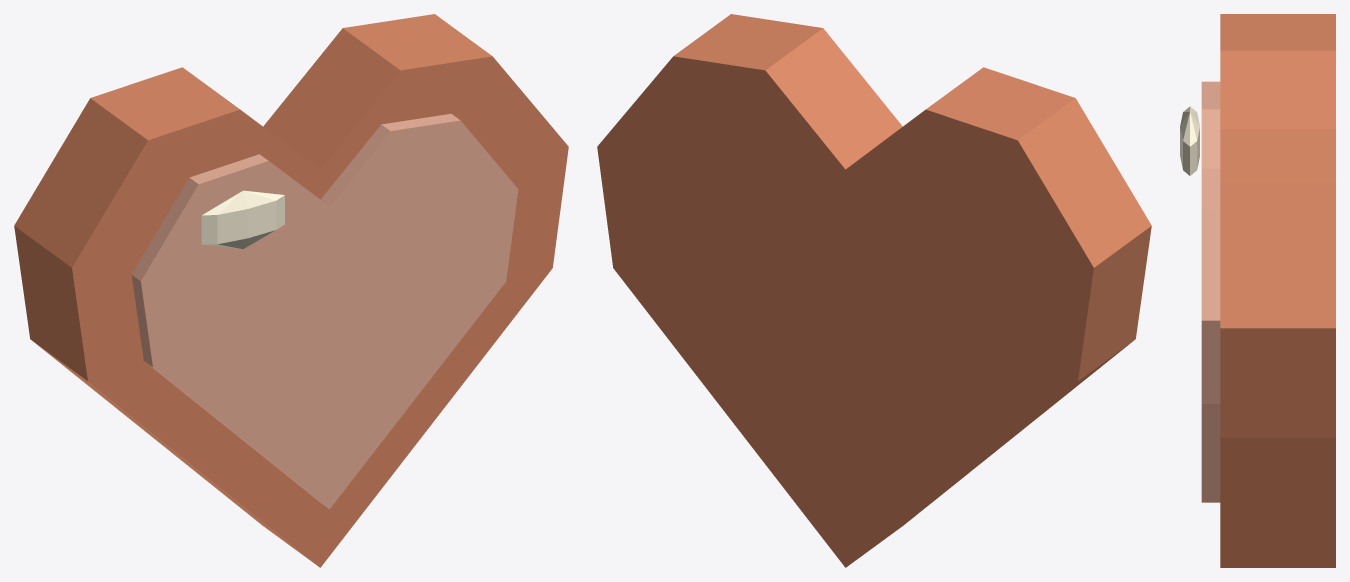
Rendered from heart.glb.
The picture shows the model from 3 angles, left to right: view 1: azimuth 30°, elevation 25°; view 2: azimuth 150°, elevation 25°; view 3: azimuth 270°, elevation 25°; orthographic projection.
Parts seen in each view (by area): view 1: collectible; view 2: collectible; view 3: collectible.
Part boxes in pixels (left/top/right/bottom): collectible: left=14, top=14, right=568, bottom=567; collectible: left=597, top=14, right=1151, bottom=567; collectible: left=1180, top=14, right=1335, bottom=567.
Size of the model in its own units: 1.24 by 1.14 by 0.3367.
